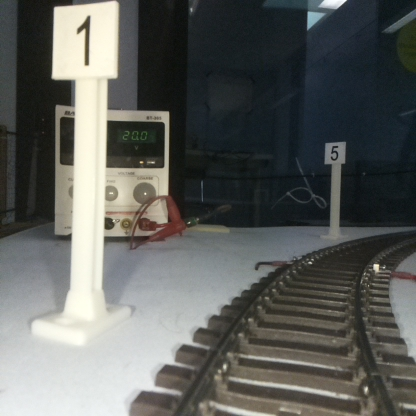white-info-1: (54, 8, 117, 337)
white-info-5: (325, 141, 345, 237)
